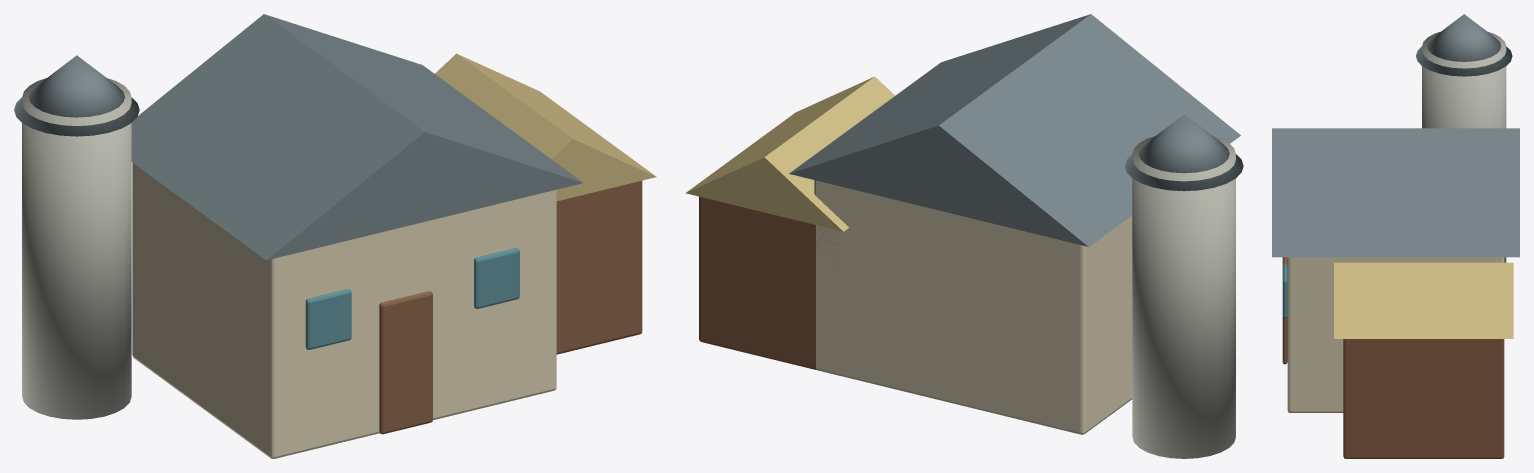
File: farmhouse.glb
The picture shows the model from 3 angles, left to right: view 1: azimuth 30°, elevation 25°; view 2: azimuth 150°, elevation 25°; view 3: azimuth 270°, elevation 25°; orthographic projection. The views are drawn at different scales.
Parts seen in each view (by area): view 1: farmhouse_plaster, farmhouse_tile, farmhouse_stone, farmhouse_timber, farmhouse_straw, farmhouse_glass; view 2: farmhouse_plaster, farmhouse_tile, farmhouse_stone, farmhouse_timber, farmhouse_straw; view 3: farmhouse_tile, farmhouse_timber, farmhouse_straw, farmhouse_plaster, farmhouse_stone, farmhouse_glass.
Boxes of the visible parts, x1,y1,x2,y2 form: farmhouse_plaster: (132, 162, 556, 458); farmhouse_tile: (14, 14, 583, 260); farmhouse_stone: (22, 78, 131, 419); farmhouse_timber: (379, 180, 642, 434); farmhouse_straw: (435, 53, 656, 201); farmhouse_glass: (305, 248, 519, 349); farmhouse_plaster: (814, 180, 1132, 434); farmhouse_tile: (789, 14, 1243, 246); farmhouse_stone: (1132, 136, 1235, 458); farmhouse_timber: (699, 196, 839, 375); farmhouse_straw: (685, 76, 895, 231); farmhouse_tile: (1272, 14, 1519, 257); farmhouse_timber: (1282, 257, 1504, 458); farmhouse_straw: (1334, 262, 1513, 338); farmhouse_plaster: (1287, 257, 1504, 412); farmhouse_stone: (1422, 31, 1506, 262); farmhouse_glass: (1282, 264, 1287, 318).
Size of the model in its own units: 7.88 by 4.68 by 4.
